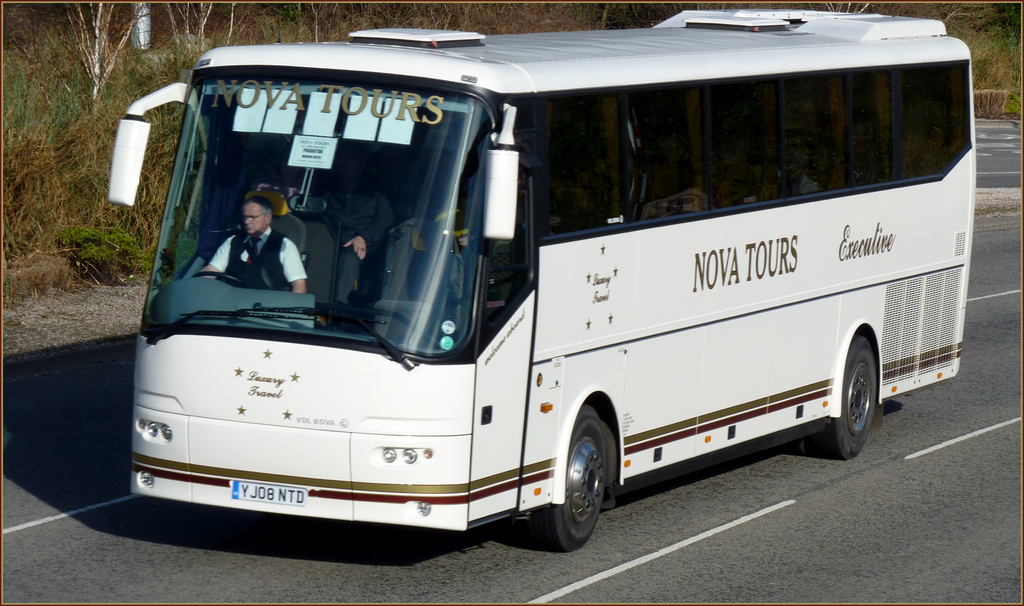Bus: (104, 10, 979, 558)
